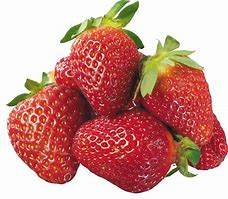Fresa: (73, 106, 180, 194), (6, 82, 87, 183), (139, 51, 216, 144), (69, 21, 142, 118)
